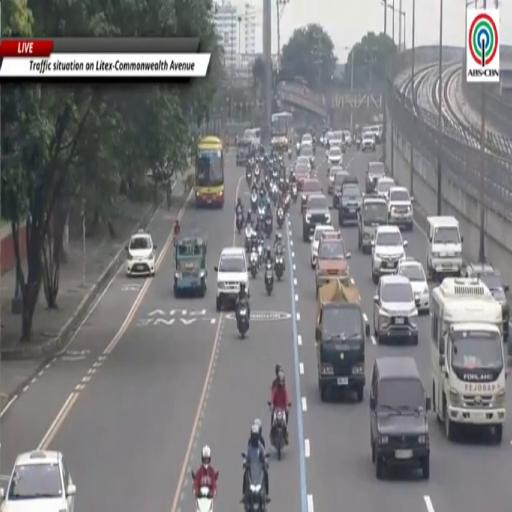bus: (195, 137, 224, 207), (271, 112, 293, 151)
car: (370, 357, 431, 479), (0, 451, 76, 511), (464, 264, 509, 340), (373, 276, 418, 345), (215, 247, 248, 311), (316, 233, 350, 293), (372, 226, 407, 284), (397, 258, 429, 314), (358, 196, 387, 252), (126, 230, 156, 276), (303, 194, 330, 242), (338, 176, 362, 226), (388, 187, 413, 231), (311, 226, 334, 268), (333, 168, 350, 209), (301, 179, 322, 212), (366, 162, 385, 194), (376, 176, 396, 200), (328, 166, 342, 195), (295, 164, 311, 186), (327, 147, 342, 168), (361, 132, 376, 153), (301, 146, 314, 168), (296, 155, 311, 170), (330, 131, 342, 148), (370, 125, 381, 143), (301, 134, 312, 151), (324, 131, 334, 147), (343, 130, 352, 146)
motorcycle: (242, 454, 268, 511), (270, 408, 287, 459), (236, 303, 249, 338), (196, 487, 213, 511), (274, 252, 284, 280), (265, 262, 273, 295), (257, 236, 265, 268), (250, 249, 258, 278), (236, 212, 244, 234), (276, 207, 284, 229), (245, 227, 252, 252), (271, 182, 278, 204), (251, 190, 258, 212), (265, 217, 272, 237), (283, 194, 290, 212), (291, 183, 297, 203), (258, 205, 266, 219), (246, 169, 252, 185), (255, 165, 260, 181), (296, 142, 300, 155), (356, 138, 360, 150), (288, 148, 292, 158)
truck: (431, 278, 507, 442), (315, 280, 369, 402), (174, 236, 207, 297)
